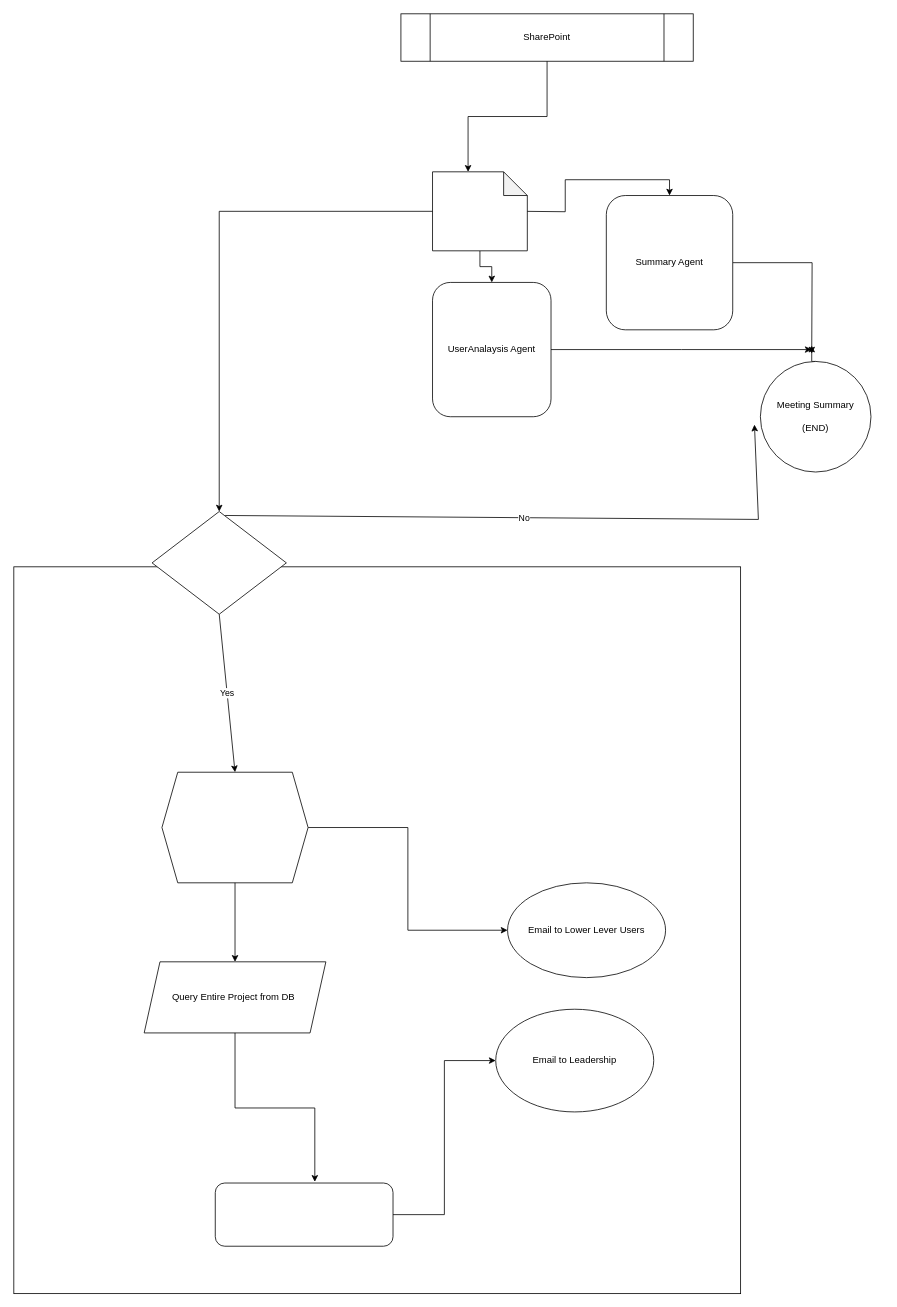
This 897x1307 diagram has some shape labels left out. Each missing label, with the box of its shape:
IF data to be saved: (151, 511, 286, 614)
Over all project summary: (214, 1182, 393, 1246)
Summary Data + Saved in Data base: (161, 771, 308, 883)
Transcript: (432, 171, 527, 251)
